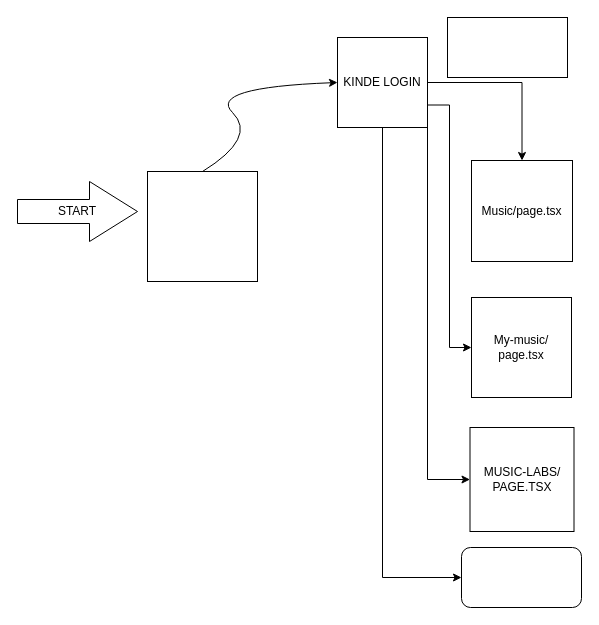
Image size: 599x625. Some labels were removed from this diagram. The shapes that lost their labels are listed below. From the top down, each one's centre as x and y in pixels, then its label:
At point (507, 47): "SUCCESSFUL LOGIN".
At point (202, 226): "LANDING PAGE (LANDING)/ Page.tsx".
At point (521, 577): "SETTINGS /PAGE.TSX".
